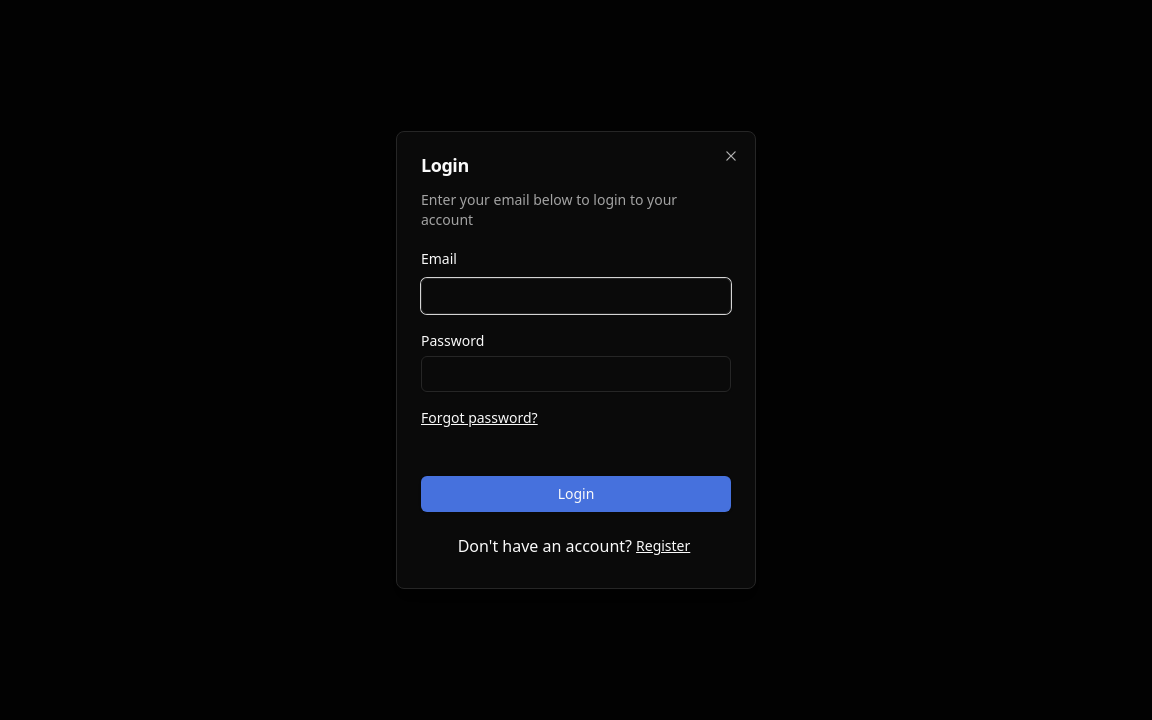
Test: LoginRegister › should show error messages when login form contains empty fields on submit
Click the button "Login" at (576, 494), box [421, 476, 731, 512]
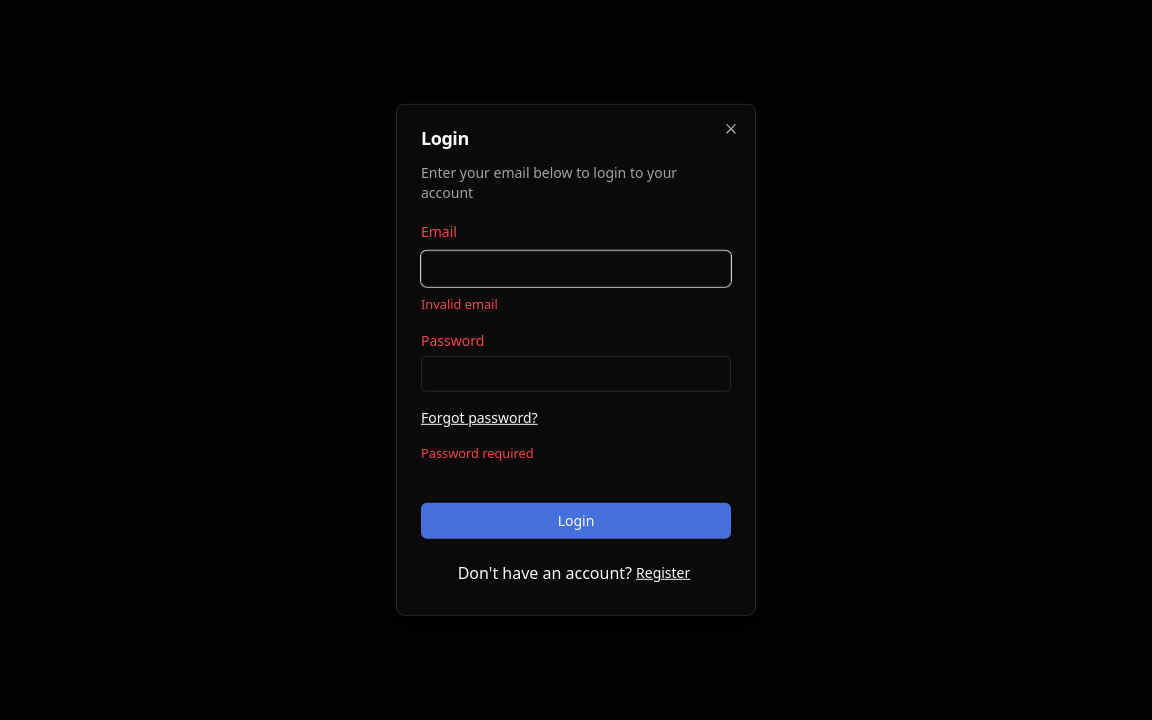
Check: the text "Invalid email" is shown, box [421, 295, 498, 313]
Check: the text "Password required" is shown, box [421, 444, 534, 462]
